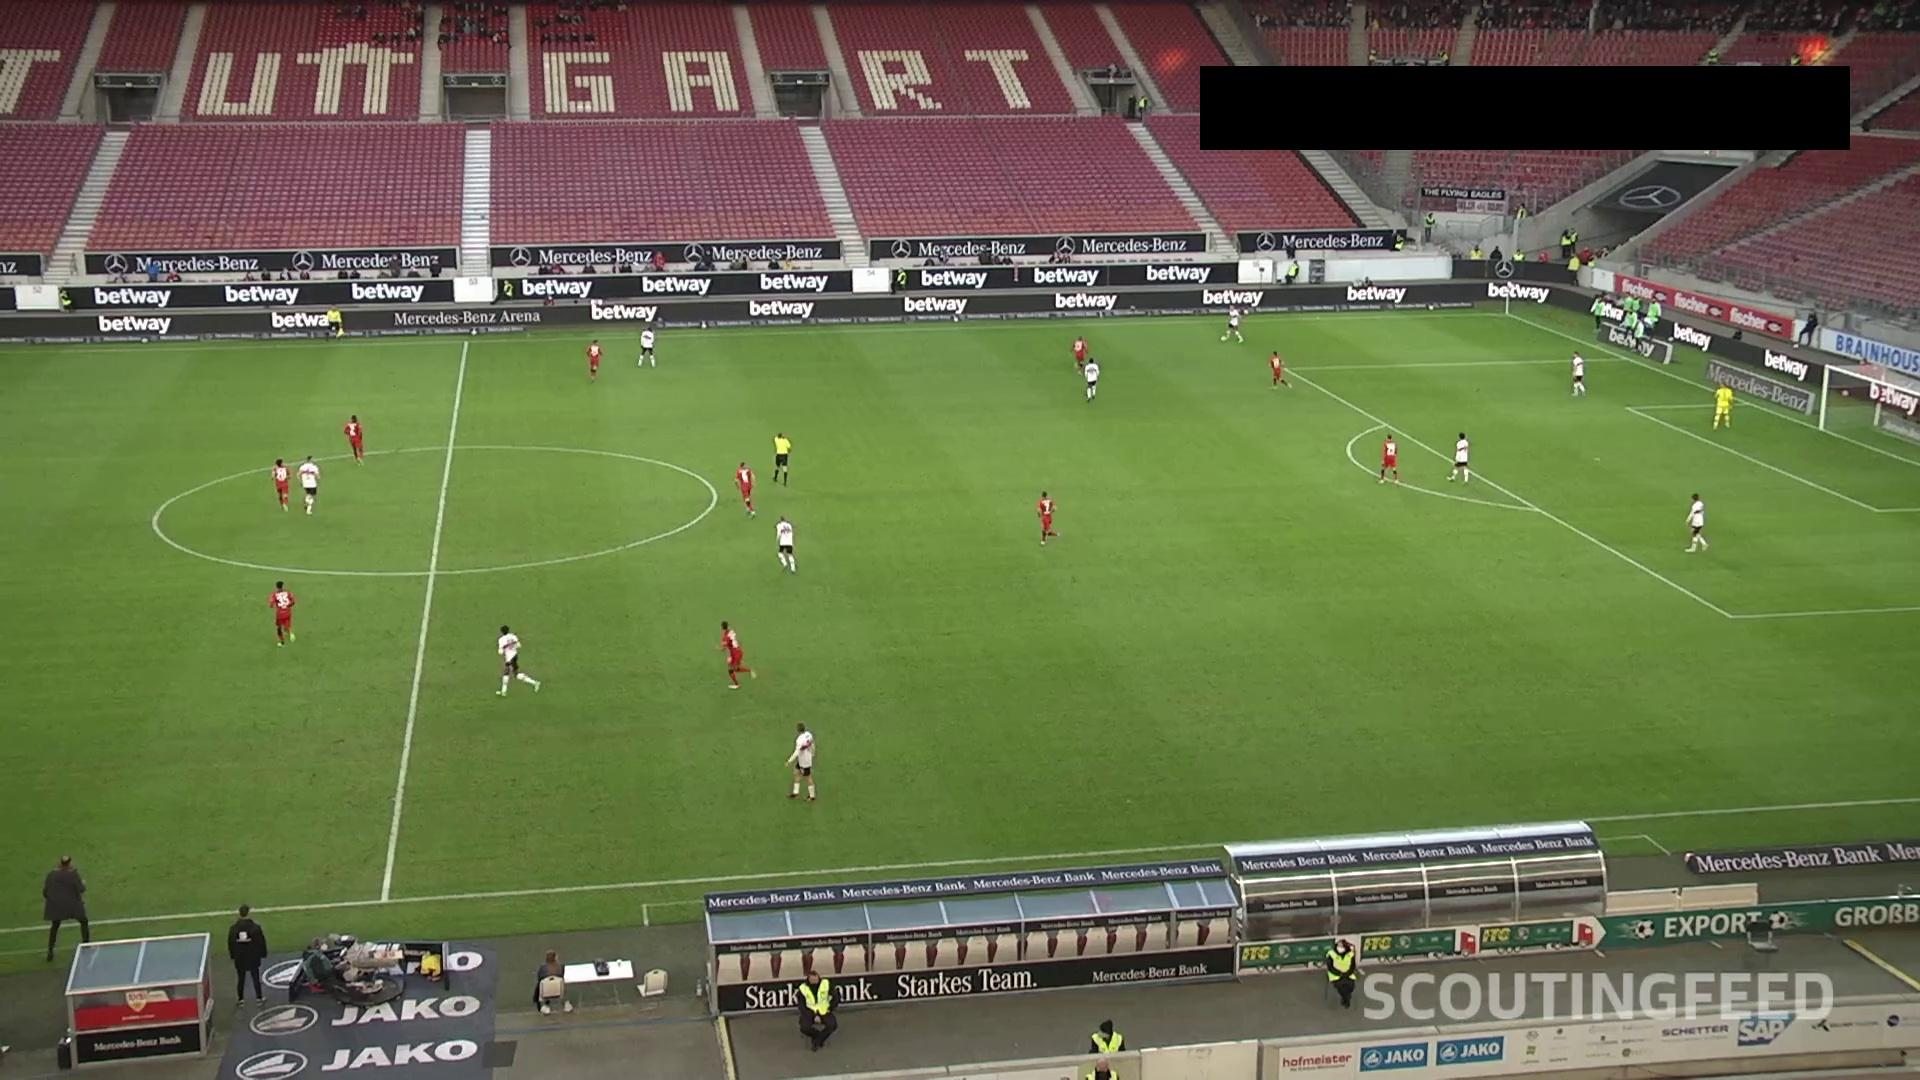Location-of-ball: (1216, 324, 1233, 349)
